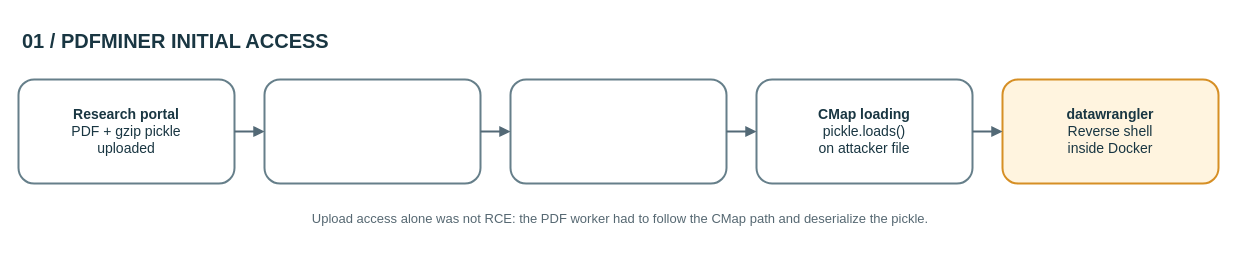
Some shapes in this 1236 by 253 pixel diagram are drawn without their labels. Here are the shapes that lost their labels. From the top down, the centre of each, then its label:
(x=372, y=131): Shared uploads /var/www/research... known disk path
(x=618, y=131): PDF watcher pdf2txt.py 30-second loop
